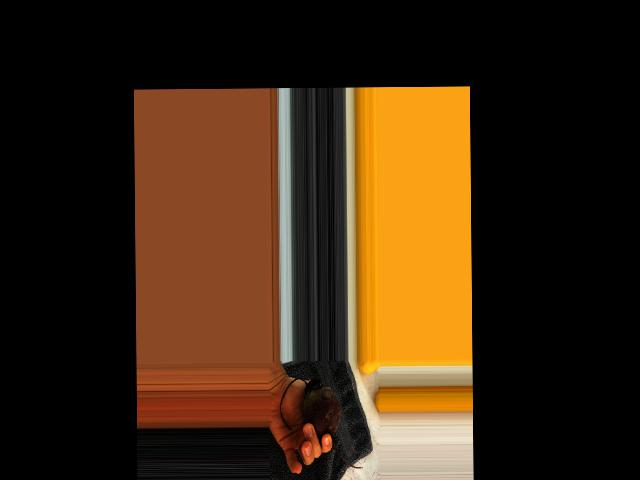beet: (279, 378, 362, 469)
